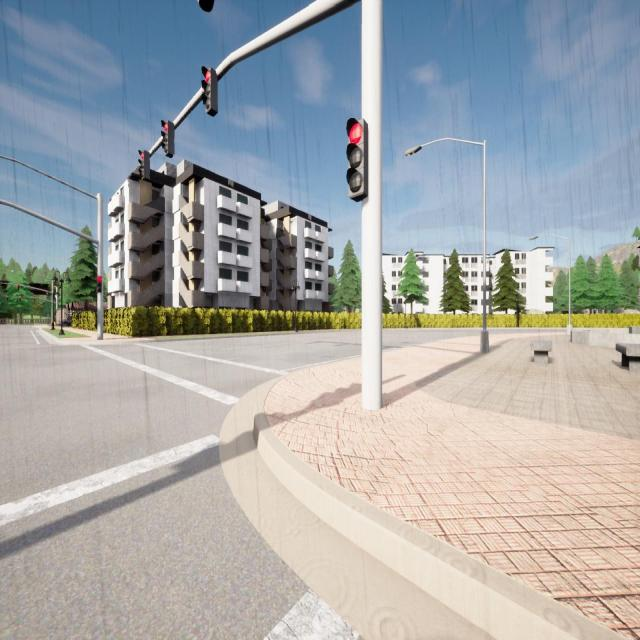traffic_light: (346, 117, 368, 202), (201, 66, 218, 117), (161, 120, 174, 158), (138, 150, 150, 182), (97, 276, 102, 293), (18, 284, 20, 291), (19, 296, 21, 302), (34, 296, 36, 302), (7, 296, 8, 301)
